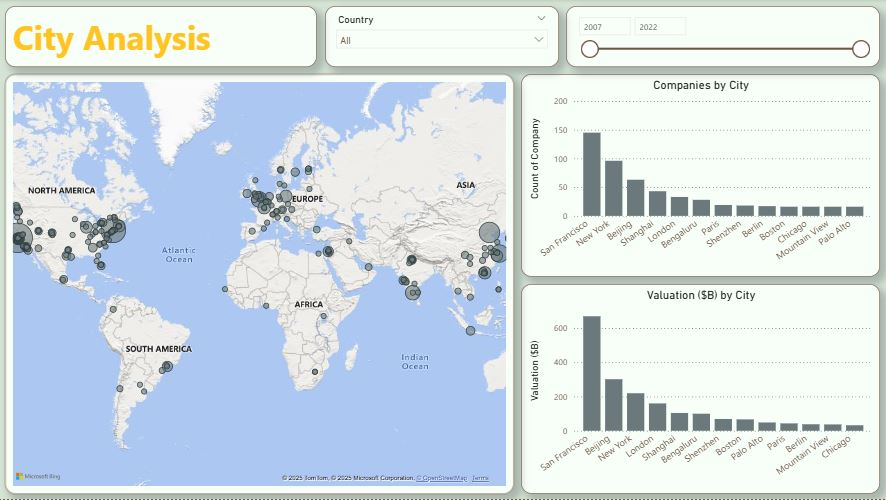

The page's visual inventory and layout, read from the dashboard file:
{"tool":"powerbi","page":{"name":"City View","canvas":[1280,720],"ordinal":3},"visuals":[{"type":"columnChart","title":"Companies by City","fields":{"Y":["CountNonNull(Unicorn_Companies.Company)"],"Category":["Unicorn_Companies.City"]},"box":[753.1,108,517,292.3],"z":0},{"type":"slicer","fields":{"Values":["Unicorn_Companies.Date Joined.Variation.Date Hierarchy.Year"]},"box":[817.9,10.1,452.2,87.8],"z":1000},{"type":"slicer","fields":{"Values":["Unicorn_Companies.Country"]},"box":[470.9,10.1,337,87.8],"z":2000},{"type":"columnChart","title":"Valuation ($B) by City","fields":{"Category":["Unicorn_Companies.City"],"Y":["Sum(Unicorn_Companies.Valuation ($B))"]},"box":[753.1,410.4,517,302.4],"z":3000},{"type":"map","fields":{"Category":["Unicorn_Companies.City"],"Size":["CountNonNull(Unicorn_Companies.Company)"]},"box":[10.1,108,733,604.8],"z":4000},{"type":"textbox","box":[10.1,10.1,449.3,87.8],"z":5000},{"type":"shape","box":[11.5,7.2,449.3,82.1],"z":6000}]}

Visuals, with their boxes in screenshot pixels (x1, y1, x2, y2), scaled from the page's 1280x720 canvas onto the 886x500 screenshot:
"Companies by City" columnChart: {"x1": 521, "y1": 75, "x2": 879, "y2": 278}
slicer - Unicorn_Companies.Date Joined.Variation.Date Hierarchy.Year: {"x1": 566, "y1": 7, "x2": 879, "y2": 68}
slicer - Unicorn_Companies.Country: {"x1": 326, "y1": 7, "x2": 559, "y2": 68}
"Valuation ($B) by City" columnChart: {"x1": 521, "y1": 285, "x2": 879, "y2": 495}
map - Unicorn_Companies.City x CountNonNull(Unicorn_Companies.Company): {"x1": 7, "y1": 75, "x2": 514, "y2": 495}
textbox: {"x1": 7, "y1": 7, "x2": 318, "y2": 68}
shape: {"x1": 8, "y1": 5, "x2": 319, "y2": 62}
